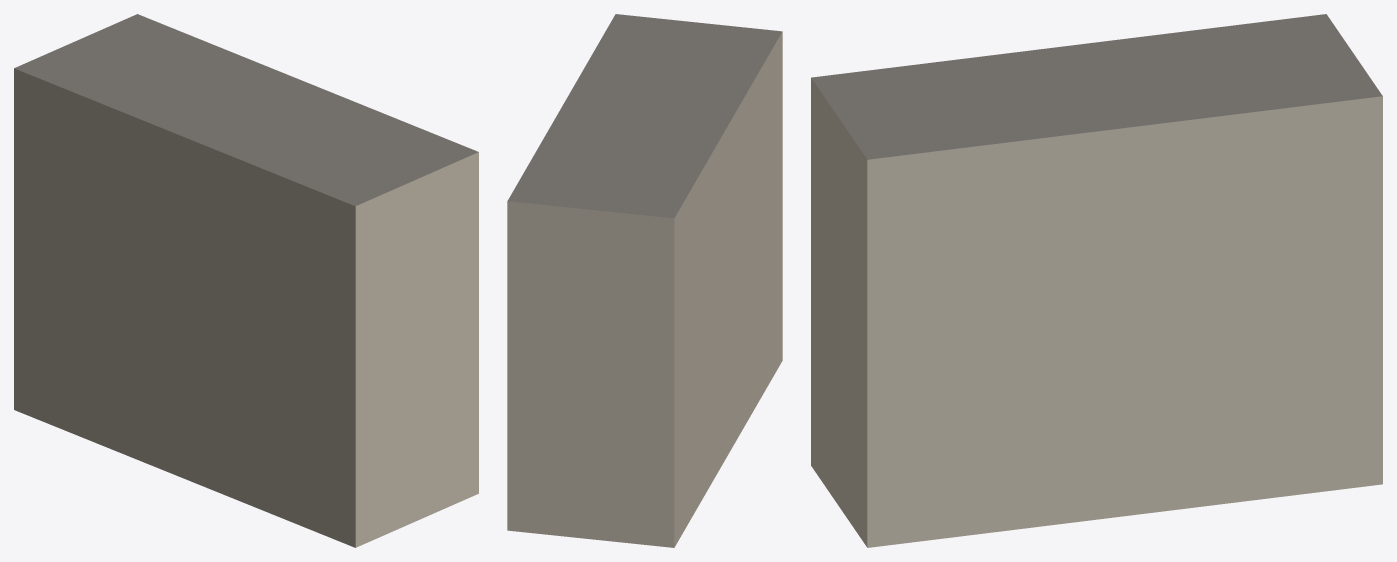
The picture shows the model from 3 angles, left to right: view 1: azimuth 30°, elevation 25°; view 2: azimuth 150°, elevation 25°; view 3: azimuth 270°, elevation 25°; orthographic projection. The views are drawn at different scales.
Parts seen in each view (by area): view 1: HP-w380339841; view 2: HP-w380339841; view 3: HP-w380339841.
Boxes of the visible parts, x1,y1,x2,y2 form: HP-w380339841: (14, 14, 478, 547); HP-w380339841: (507, 14, 782, 547); HP-w380339841: (811, 14, 1382, 547).
Bounding box in the file's own units: 12.08 × 15 × 20.02.
